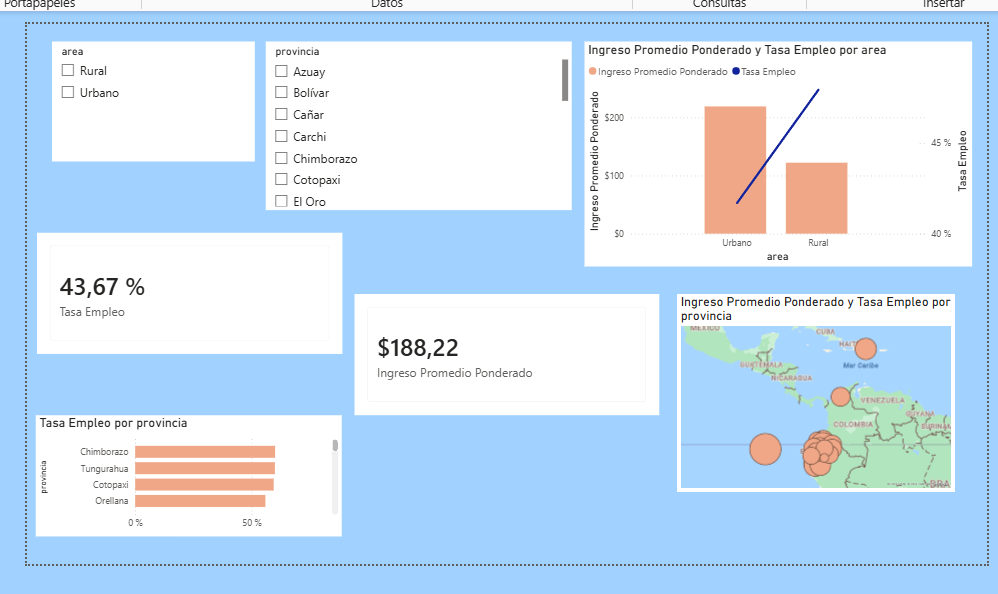

The page's visual inventory and layout, read from the dashboard file:
{"tool":"powerbi","page":{"name":"Página 1","canvas":[1280,720],"ordinal":0},"visuals":[{"type":"slicer","fields":{"Values":["public dim_geografia.area"]},"box":[33.3,23.3,270,160],"z":0},{"type":"slicer","fields":{"Values":["public dim_geografia.provincia"]},"box":[318.3,23.3,408.3,225],"z":1000},{"type":"cardVisual","fields":{"Data":["public fact_situacion_laboral.Tasa Empleo"]},"box":[14.1,278.7,407.4,161.3],"z":2000},{"type":"cardVisual","fields":{"Data":["public fact_situacion_laboral.Ingreso Promedio Ponderado"]},"box":[436.7,360,406.7,161.7],"z":3000},{"type":"lineClusteredColumnComboChart","fields":{"Category":["public dim_geografia.area"],"Y":["public fact_situacion_laboral.Ingreso Promedio Ponderado"],"Y2":["public fact_situacion_laboral.Tasa Empleo"]},"box":[743.3,23.3,516.7,300],"z":4000},{"type":"barChart","fields":{"Category":["public dim_geografia.provincia"],"Y":["public fact_situacion_laboral.Tasa Empleo"]},"box":[11.7,521.7,408.3,161.7],"z":5000},{"type":"azureMap","fields":{"Category":["public dim_geografia.provincia"],"Size":["public fact_situacion_laboral.Ingreso Promedio Ponderado"]},"box":[866.7,360,370,263.3],"z":6000}]}

Visuals, with their boxes on the page's 1280x720 design canvas (x1, y1, x2, y2). These are canvas units, not pixel positions in the 998x594 screenshot, which may show the page scaled, cropped or inside an application window:
slicer - public dim_geografia.area: pyautogui.locateOnScreen(33, 23, 303, 183)
slicer - public dim_geografia.provincia: pyautogui.locateOnScreen(318, 23, 727, 248)
cardVisual - public fact_situacion_laboral.Tasa Empleo: pyautogui.locateOnScreen(14, 279, 422, 440)
cardVisual - public fact_situacion_laboral.Ingreso Promedio Ponderado: pyautogui.locateOnScreen(437, 360, 843, 522)
lineClusteredColumnComboChart - public dim_geografia.area x public fact_situacion_laboral.Ingreso Promedio Ponderado: pyautogui.locateOnScreen(743, 23, 1260, 323)
barChart - public dim_geografia.provincia x public fact_situacion_laboral.Tasa Empleo: pyautogui.locateOnScreen(12, 522, 420, 683)
azureMap - public dim_geografia.provincia x public fact_situacion_laboral.Ingreso Promedio Ponderado: pyautogui.locateOnScreen(867, 360, 1237, 623)
